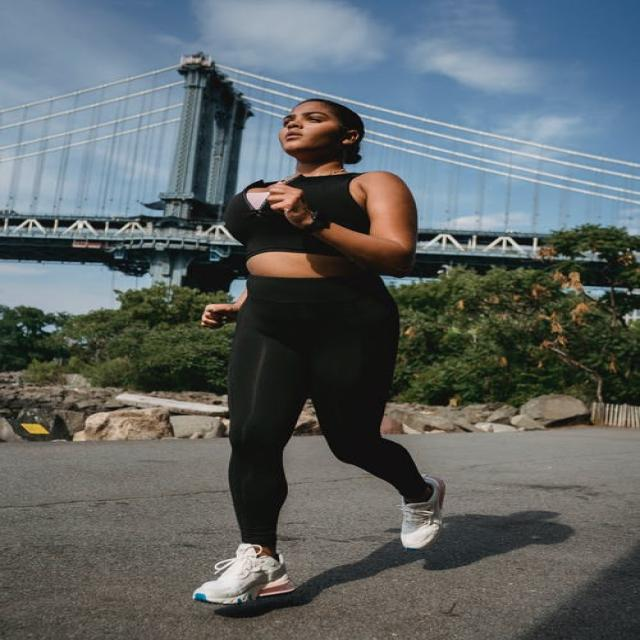running: (193, 95, 452, 611)
